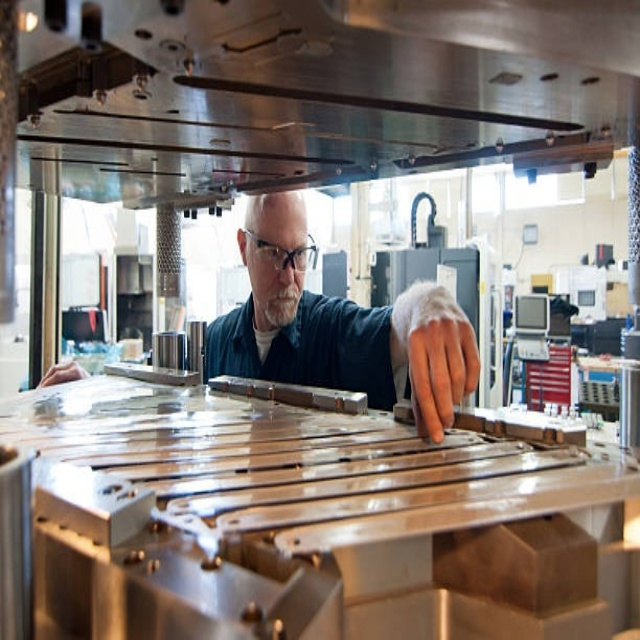Gafas: (246, 230, 318, 273)
Sin_guantes: (397, 294, 482, 445), (38, 359, 89, 388)
Sin_mascara: (266, 287, 301, 318)
